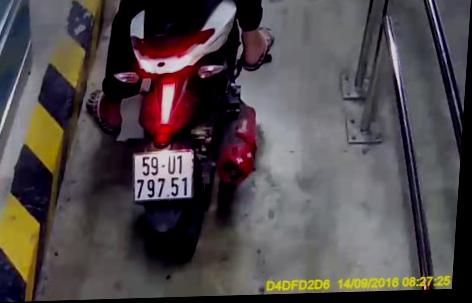License_Plate: (126, 145, 203, 207)
